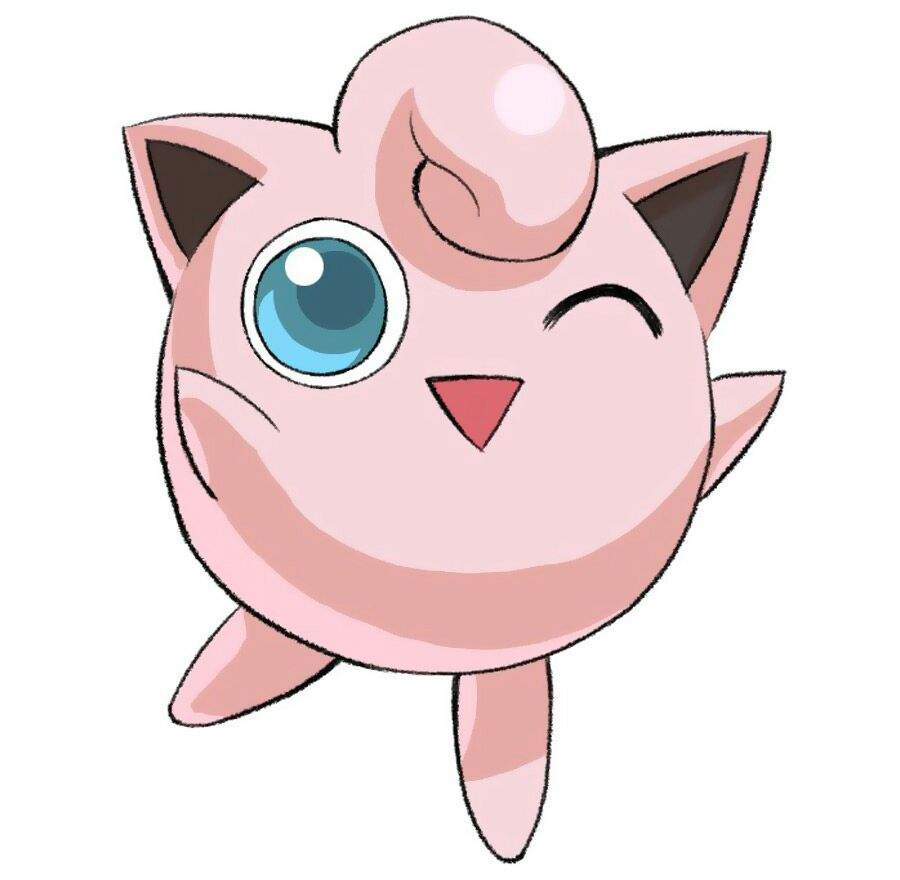jigglypuff: (94, 1, 823, 869)
